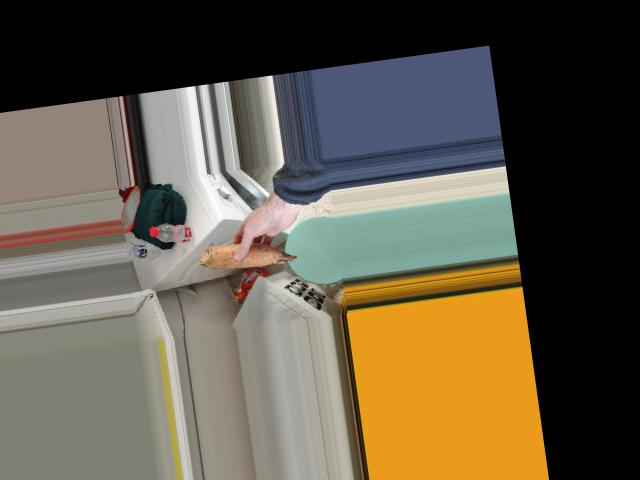sweet_potato: (194, 228, 299, 276)
